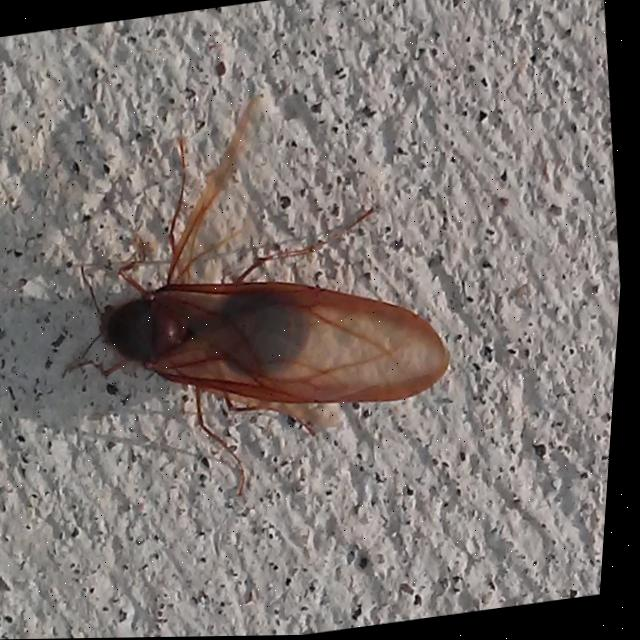Alive-Male-Alate: (28, 70, 484, 521)
